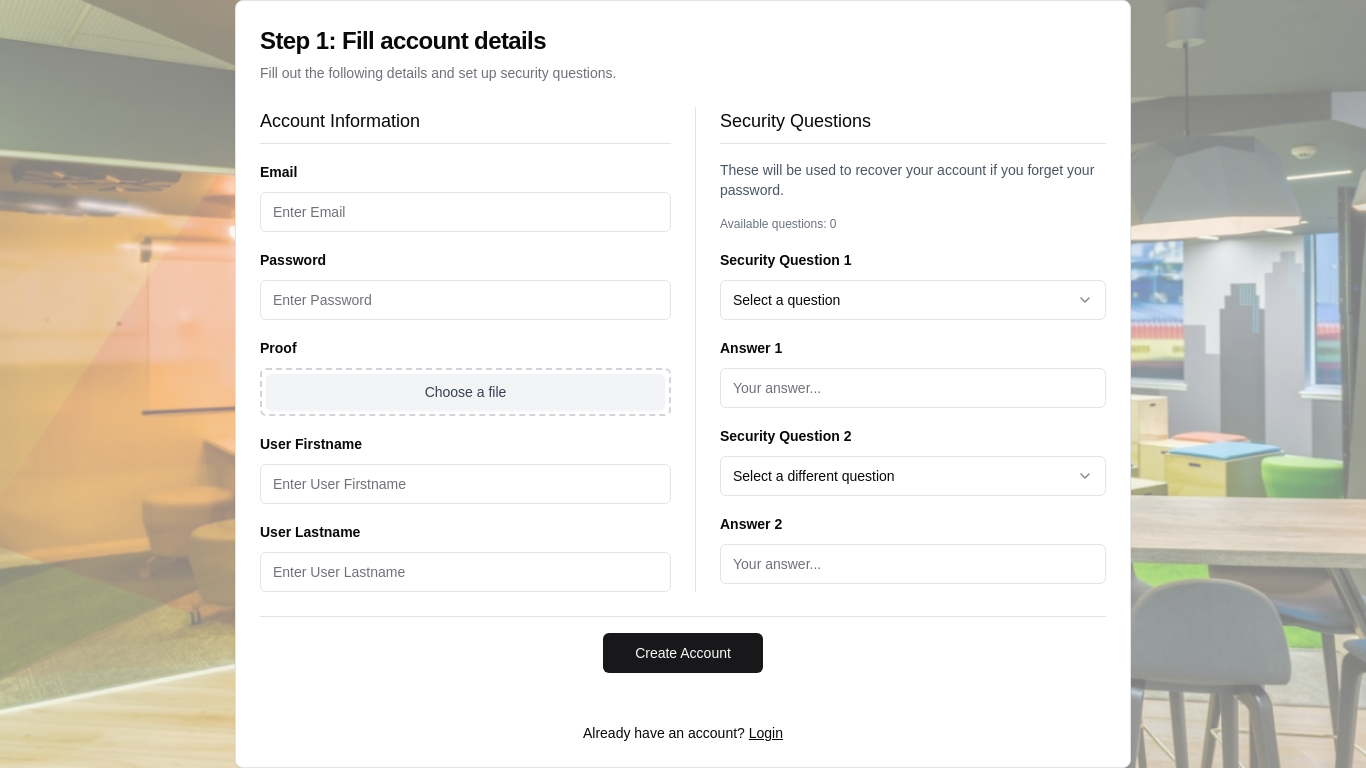
Scenario: Signup page tests › Tests login link
Click the link "Login" at (766, 733), box [749, 725, 783, 741]
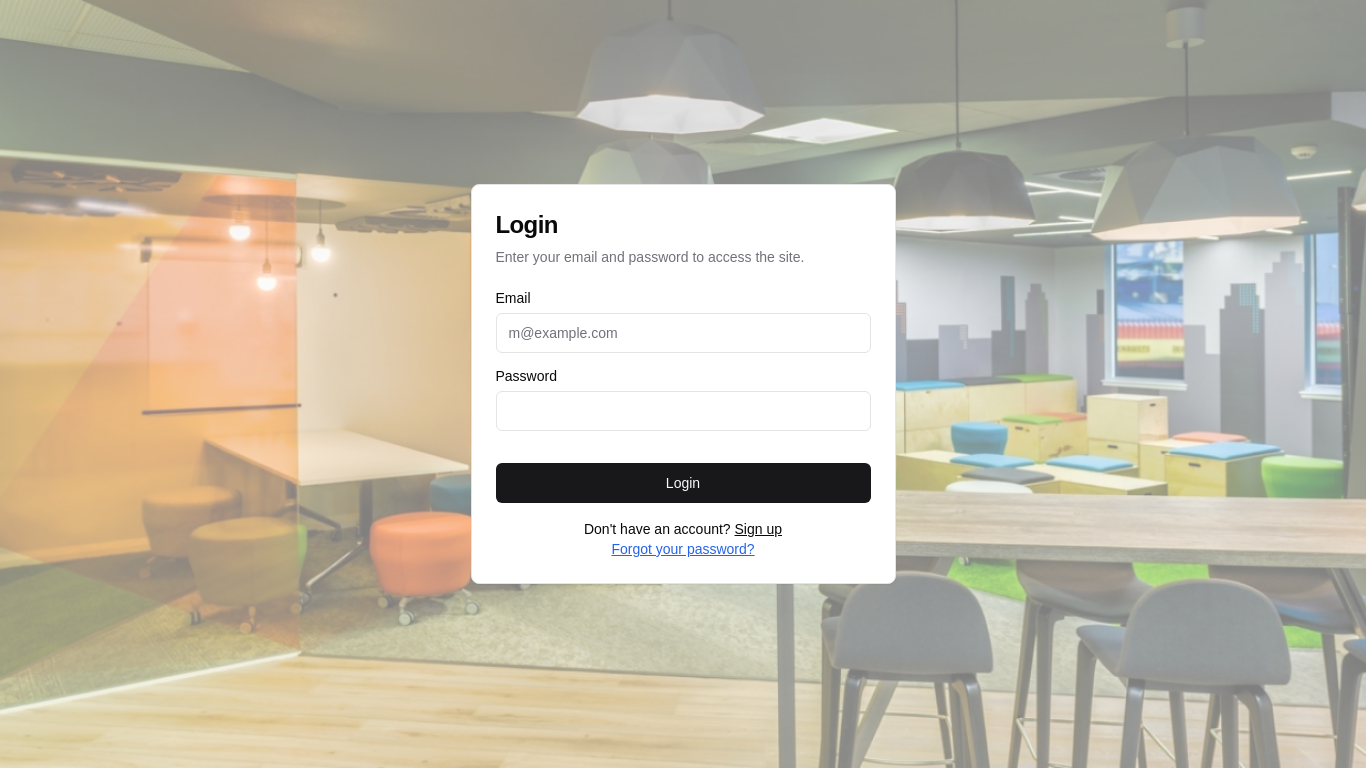
Result: the heading "Login" is shown at [496, 211, 558, 238]
